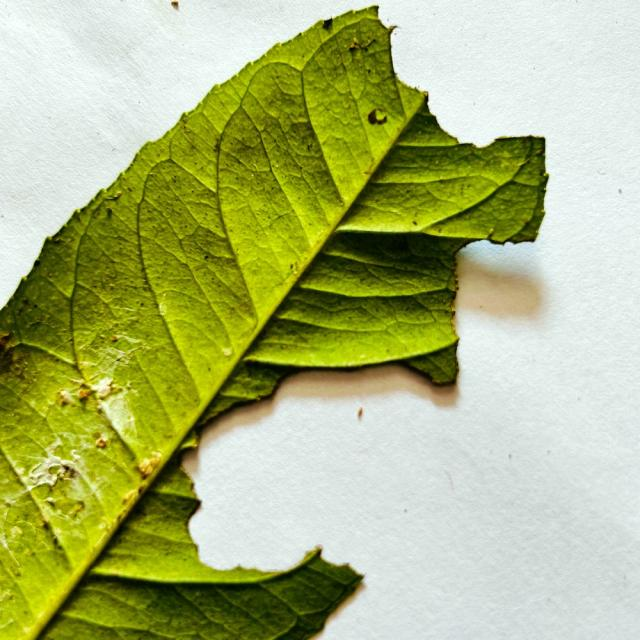Deficiency Leaf: (182, 365, 458, 574), (379, 0, 545, 145), (456, 241, 545, 319)
Lemon: (0, 6, 548, 639)
